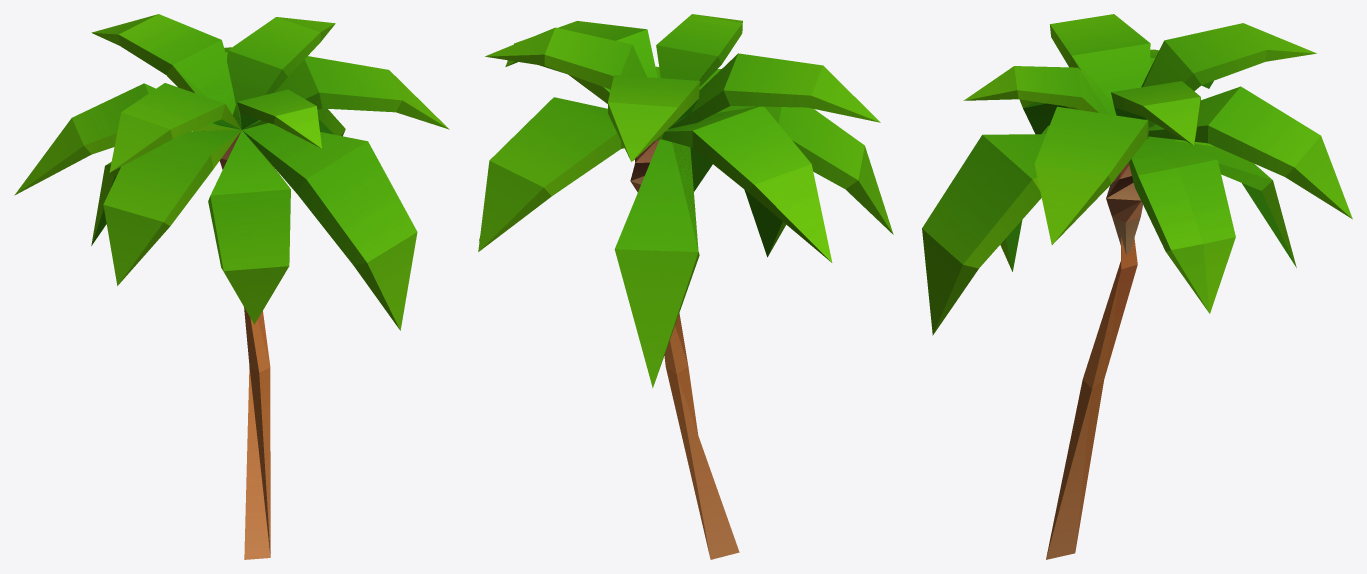
Rendered from GL-Palmtree-01-LOD3.fbx.
3 renders of one model, left to right at view 1: azimuth 30°, elevation 25°; view 2: azimuth 150°, elevation 25°; view 3: azimuth 270°, elevation 25°, orthographic. The views are drawn at different scales.
Visible parts, largest first — view 1: GL_Palmtree_01; view 2: GL_Palmtree_01; view 3: GL_Palmtree_01.
Part boxes in pixels (x1,y1,x2,y2): GL_Palmtree_01: [14, 14, 449, 559]; GL_Palmtree_01: [478, 14, 893, 559]; GL_Palmtree_01: [922, 14, 1352, 559].
Bounding box in the file's own units: 3.72 × 4.62 × 3.57.
